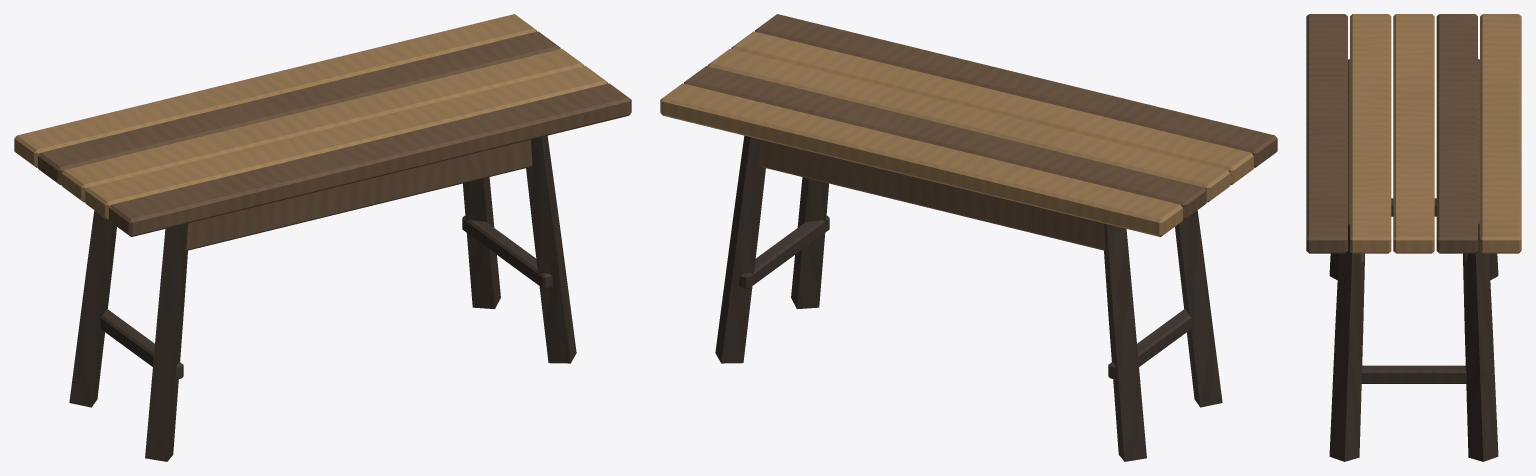
Rendered from PR_Workbench.glb.
The picture shows the model from 3 angles, left to right: view 1: azimuth 30°, elevation 25°; view 2: azimuth 150°, elevation 25°; view 3: azimuth 270°, elevation 25°; orthographic projection. The views are drawn at different scales.
Parts seen in each view (by area): view 1: PR_Workbench; view 2: PR_Workbench; view 3: PR_Workbench.
Part boxes in pixels (x1=…): PR_Workbench: x1=14, y1=14, x2=631, y2=461; PR_Workbench: x1=660, y1=14, x2=1277, y2=461; PR_Workbench: x1=1306, y1=14, x2=1521, y2=461.
Bounding box in the file's own units: 1.6 × 0.8023 × 0.644.
3 materials, 3 textured.
